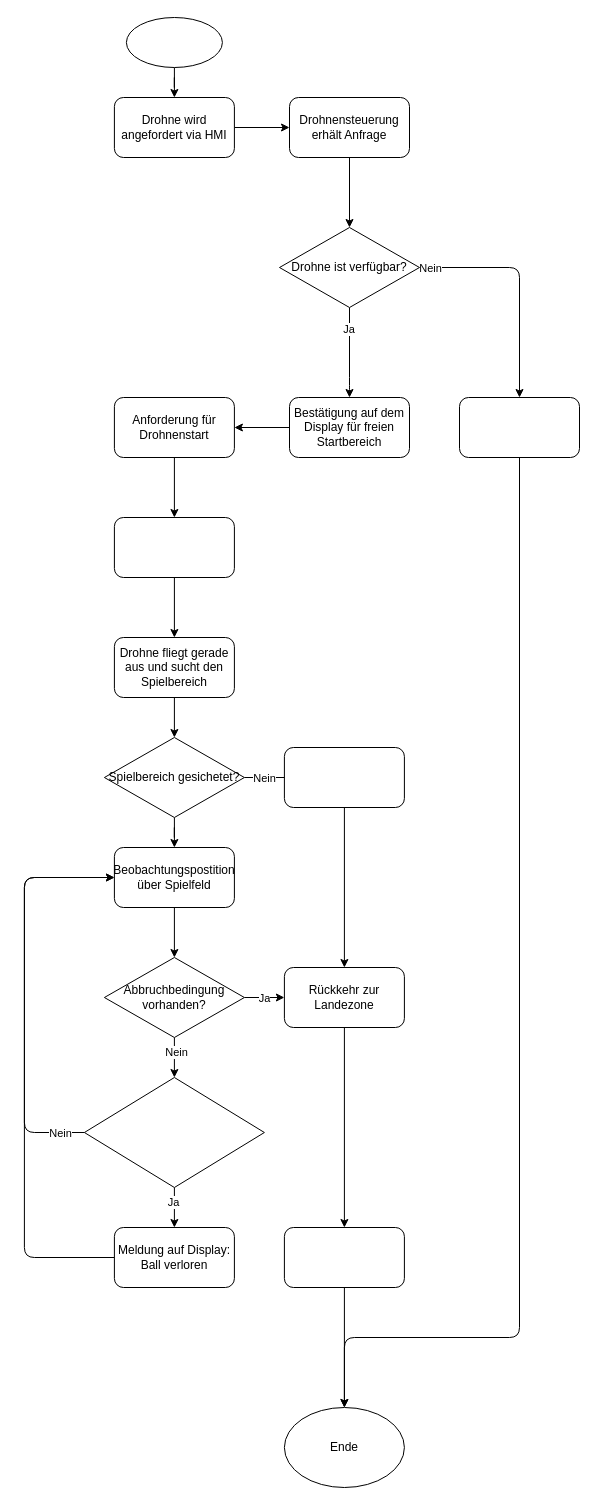
Image size: 598x1505. Some labels were removed from this diagram. The shapes that lost their labels are listed below. From the top down, each one's centre as x and y in pixels, then its label:
At (x=173, y=42): "Start".
At (x=519, y=427): "Rückmeldung auf Display".
At (x=173, y=547): "Drohne fliegt in sichere Höhe (2,2 m)".
At (x=343, y=777): "Rückmeldung mit Fehler Spielbereich nicht auffindbar".
At (x=173, y=1132): "Ball erkannt und anschließend für >2 Sekunden nicht gesichetet? Ausnahme: Tor".
At (x=343, y=1257): "Landung einleiten".
